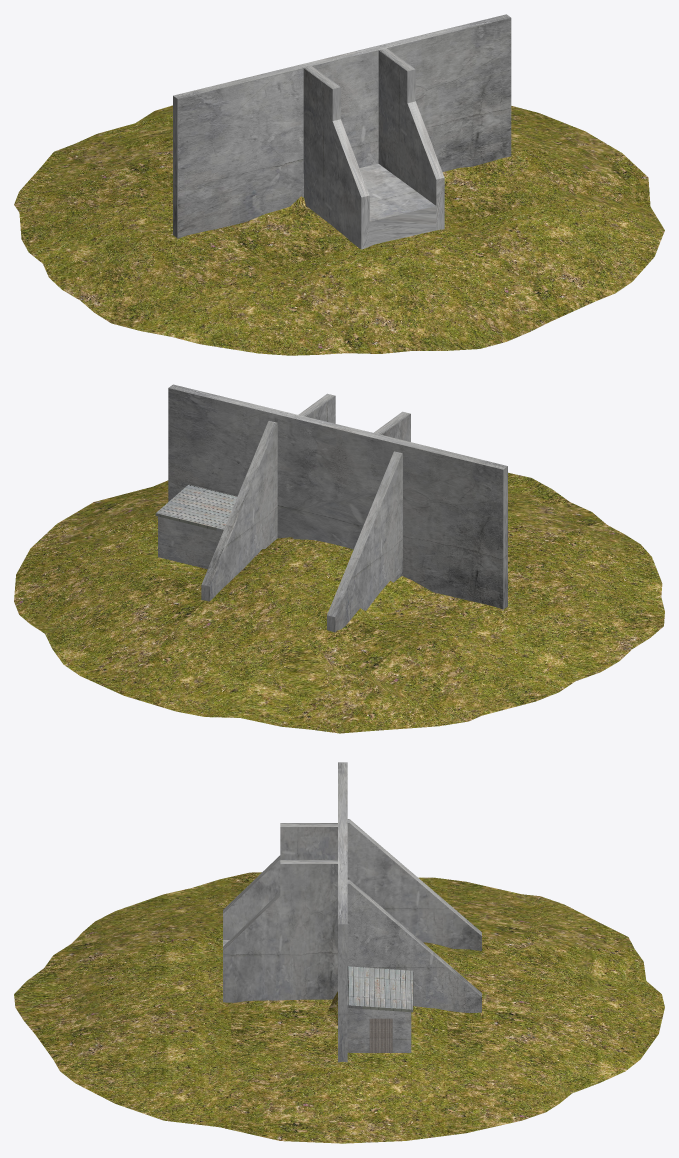
File: GunneryBlock.glb
3 views of the same model, one above another, from view 1: azimuth 30°, elevation 25°; view 2: azimuth 150°, elevation 25°; view 3: azimuth 270°, elevation 25° (orthographic).
Visible parts, largest first — view 1: meshBase, GunneryBlock; view 2: meshBase, GunneryBlock; view 3: meshBase, GunneryBlock.
Part boxes in pixels (x1,y1,x2,y2): meshBase: (14, 105, 664, 355); GunneryBlock: (173, 14, 511, 249); meshBase: (14, 472, 664, 733); GunneryBlock: (155, 384, 507, 632); meshBase: (14, 872, 664, 1143); GunneryBlock: (223, 762, 481, 1062).
Bounding box in the file's own units: 33.6 × 9.46 × 33.94.
2 materials, 2 textured.
